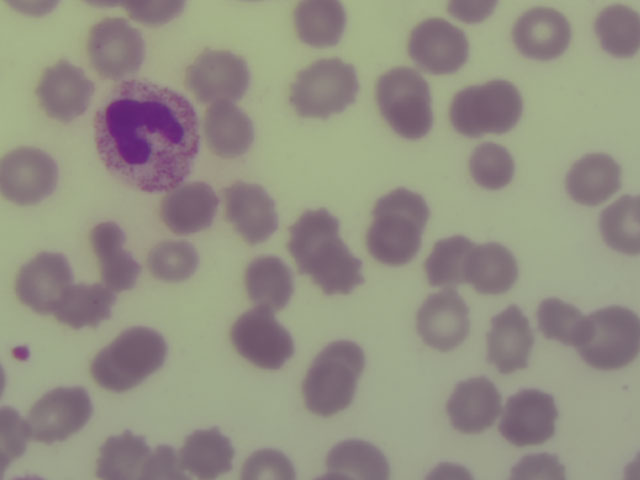Platelets: (12, 347, 33, 363)
RBC: (17, 387, 92, 439), (4, 146, 60, 213), (233, 315, 297, 373), (237, 256, 300, 314), (484, 307, 535, 377), (582, 312, 640, 371), (297, 61, 357, 118), (416, 287, 471, 349), (512, 8, 575, 62), (500, 390, 559, 445), (563, 154, 625, 206), (43, 64, 92, 127), (290, 209, 342, 268), (319, 437, 389, 480), (412, 23, 467, 75), (452, 377, 500, 434), (94, 25, 146, 77), (17, 255, 71, 305), (373, 190, 432, 233), (190, 423, 235, 479), (382, 69, 429, 122), (198, 51, 248, 100), (232, 185, 276, 240), (316, 243, 362, 295), (372, 216, 423, 262), (603, 194, 640, 257), (534, 300, 589, 342), (57, 285, 112, 327), (206, 103, 252, 153), (90, 347, 142, 391), (482, 77, 521, 135), (102, 431, 148, 480), (311, 365, 355, 416), (471, 144, 517, 192), (432, 237, 477, 286), (167, 188, 217, 232), (595, 5, 638, 55), (151, 241, 200, 284), (299, 4, 346, 48), (477, 242, 518, 292), (123, 329, 166, 372), (395, 97, 433, 139), (240, 450, 294, 479), (103, 253, 143, 292), (124, 1, 187, 25), (325, 342, 368, 376), (89, 221, 129, 257), (147, 447, 190, 480), (452, 85, 481, 133), (511, 455, 566, 480), (2, 408, 25, 460), (449, 1, 499, 22), (426, 460, 475, 480), (9, 1, 63, 19), (625, 448, 640, 480)
WBC: (97, 83, 202, 192)
